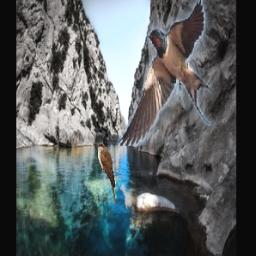Cuckoo: (95, 143, 116, 207)
Swallow: (118, 0, 221, 146)
